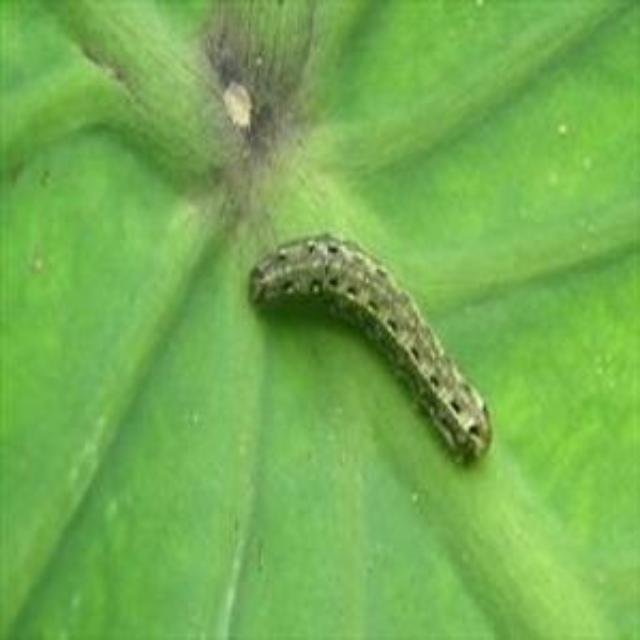Tobacco cutworm: (212, 186, 514, 482)
